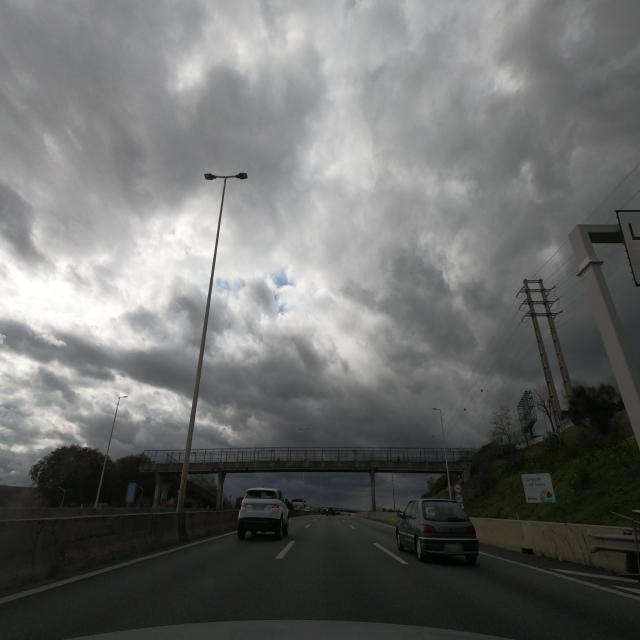car: (396, 497, 479, 564), (237, 488, 290, 540)
